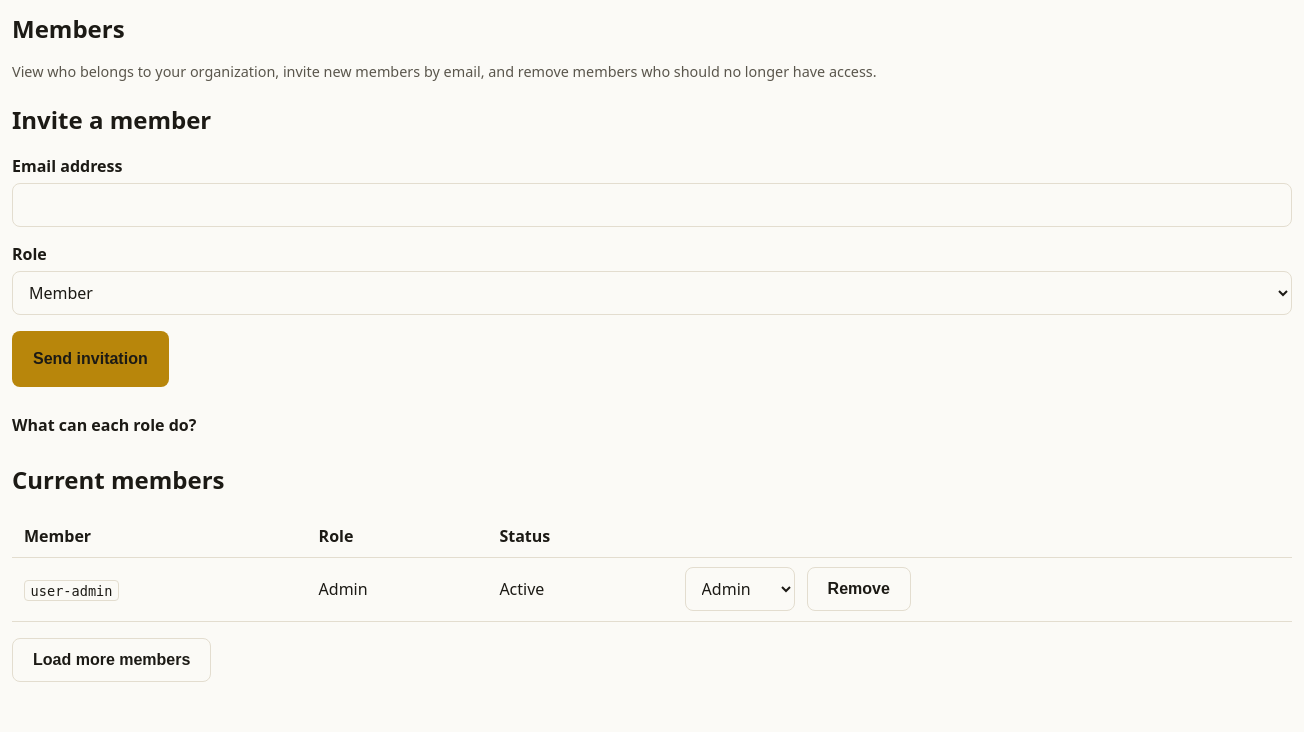
MemberManagement — roster (NFR-ROL-2) › loads the next page of members on demand (cursor pagination)
Expected: the text "user-admin" is shown, [24, 580, 119, 601]
# A "load more" affordance appears only because the first page reported a next_cursor.
Step 1. Click the button "Load more members" → [112, 660], box [12, 638, 211, 682]
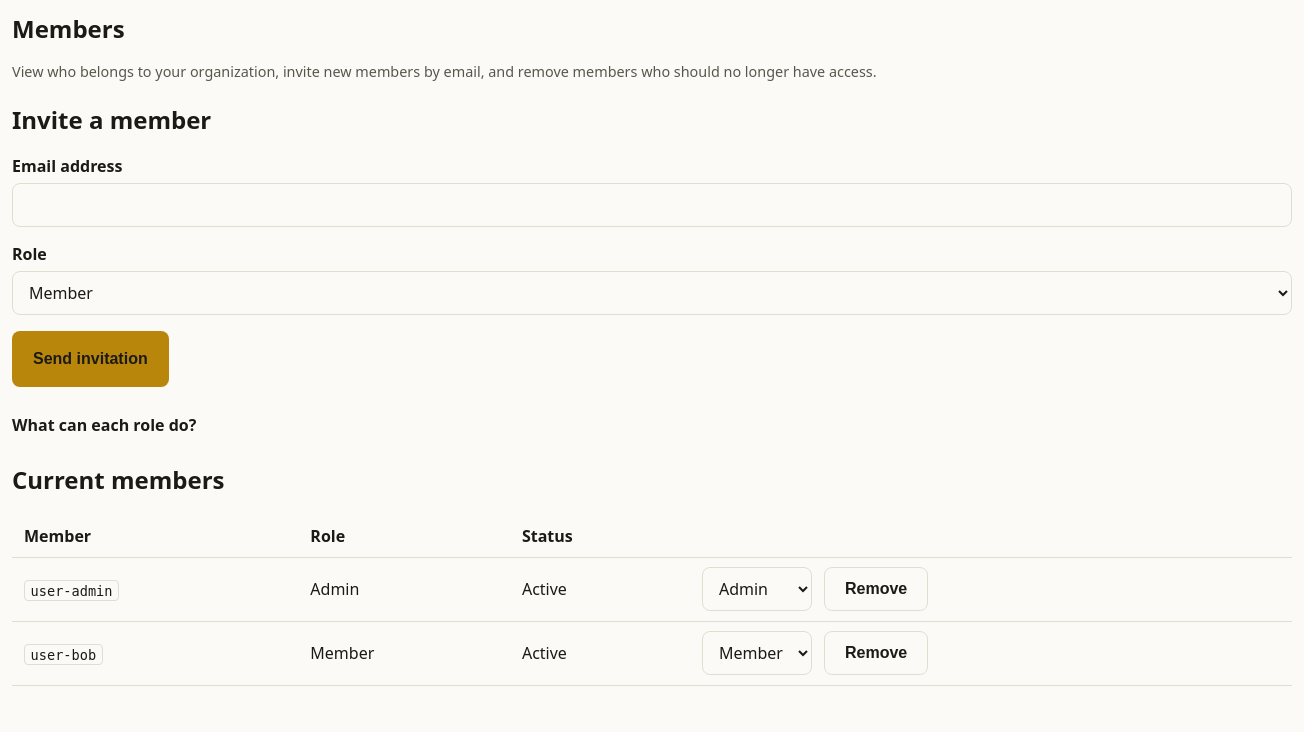
Result: the text "user-bob" is shown at [24, 644, 103, 665]
